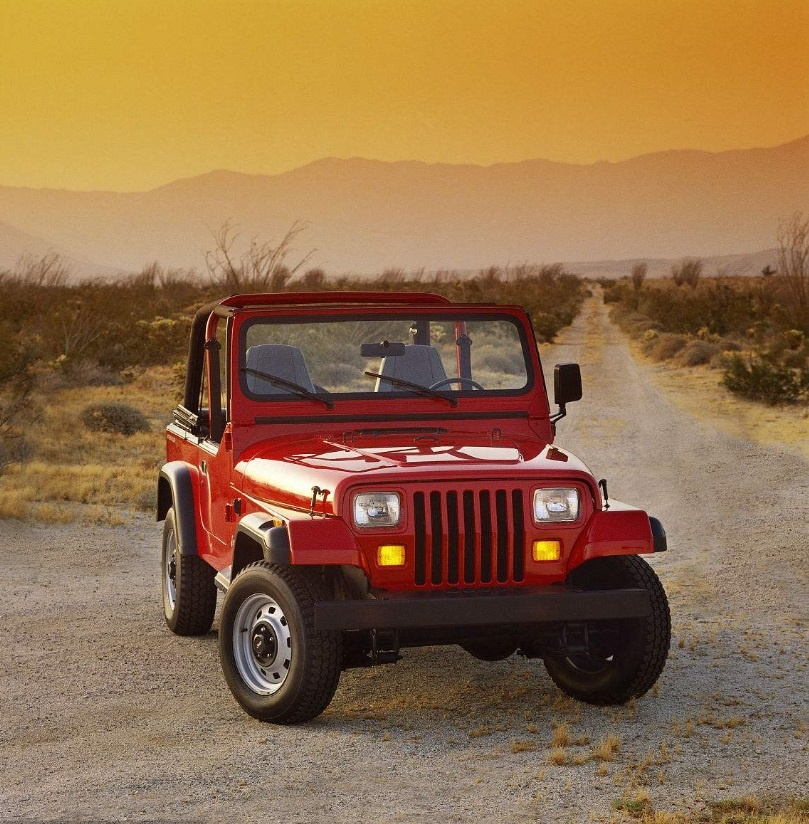jeep: (147, 279, 679, 715)
